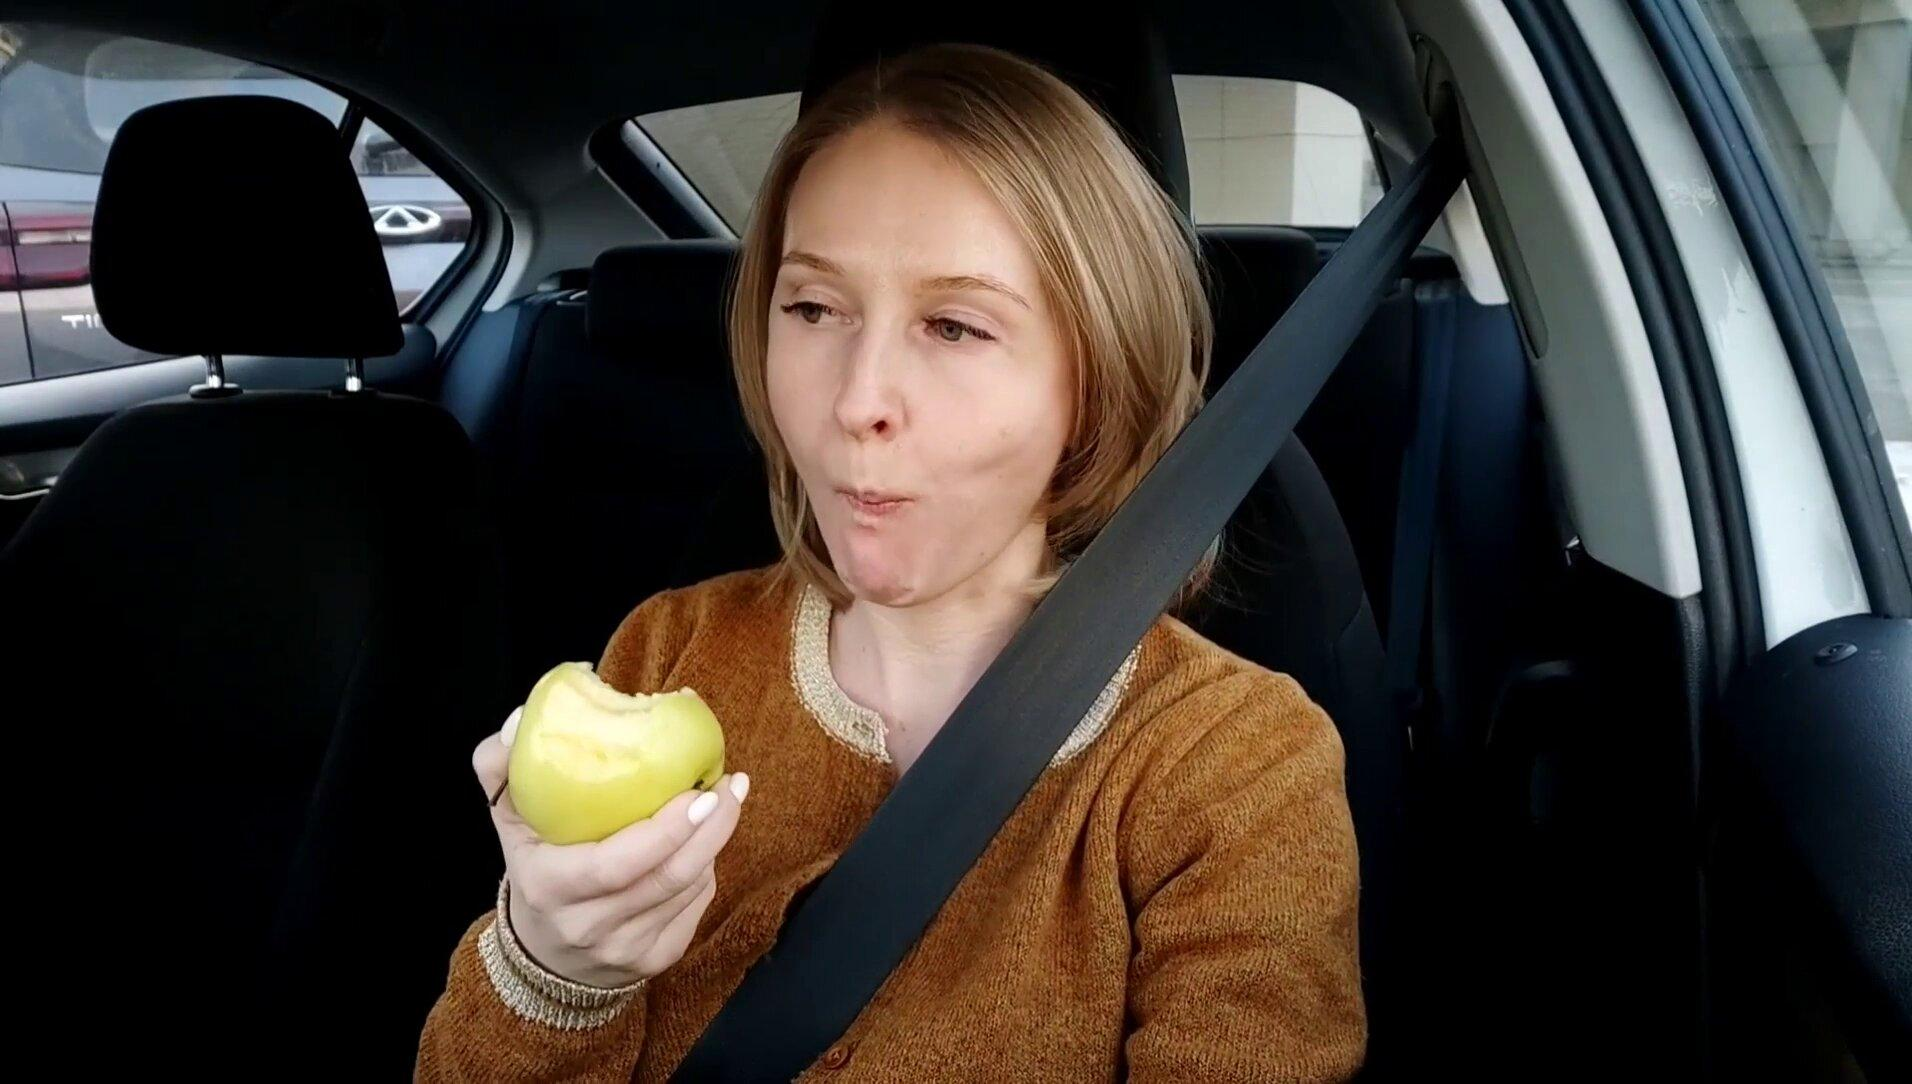Eating: (502, 652, 734, 853)
